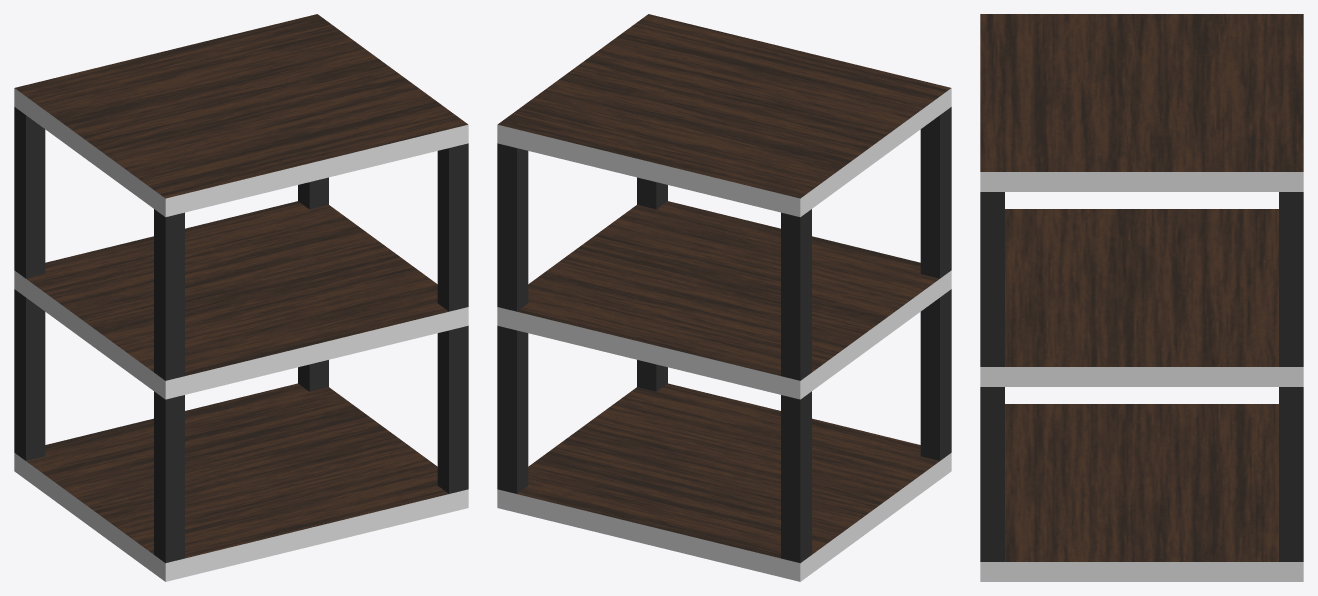
The model's file is ShelfBasement.fbx.
The picture shows the model from 3 angles, left to right: view 1: azimuth 30°, elevation 25°; view 2: azimuth 150°, elevation 25°; view 3: azimuth 270°, elevation 25°; orthographic projection. The views are drawn at different scales.
Parts seen in each view (by area): view 1: Cube.010; view 2: Cube.010; view 3: Cube.010.
Part boxes in pixels (box(x1,y1,x2,y2)): Cube.010: box(14, 14, 468, 581); Cube.010: box(497, 14, 951, 581); Cube.010: box(980, 14, 1303, 581).
Bounding box in the file's own units: 161 × 195 × 139.
3 materials, 1 textured.
